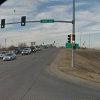Traffic light: (60, 26, 95, 68)
